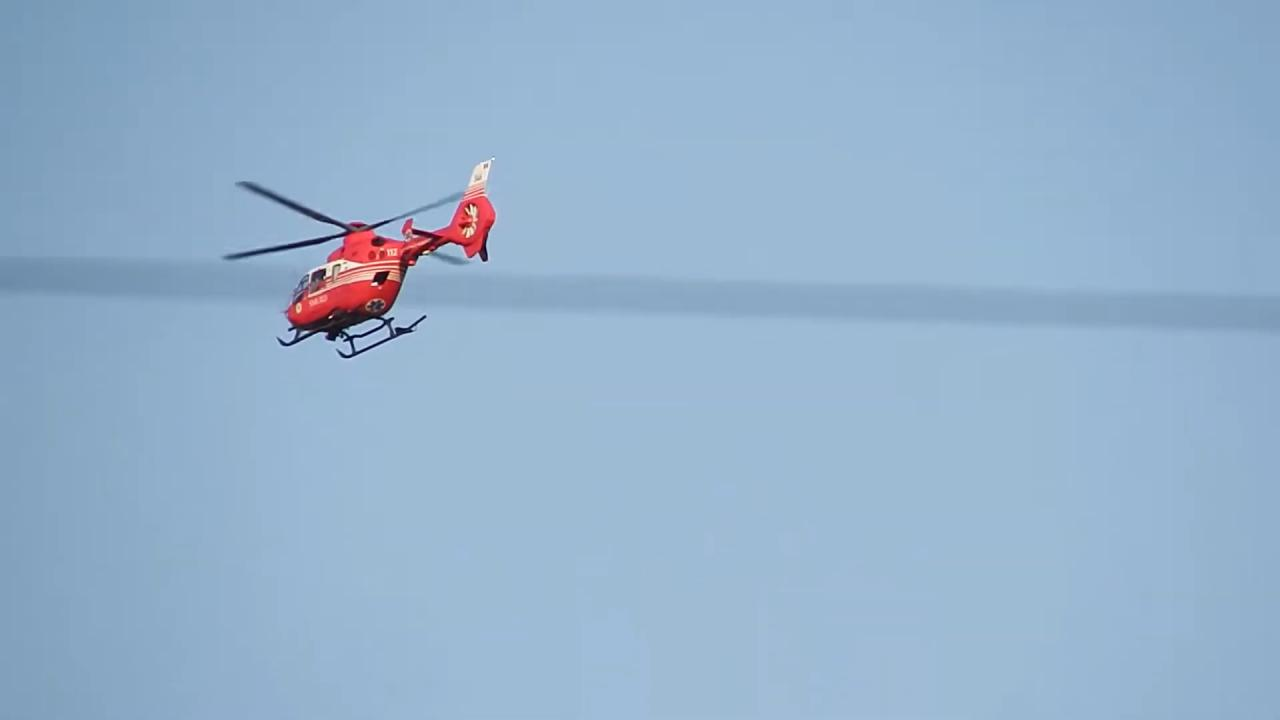Helicopter: (208, 139, 518, 372)
